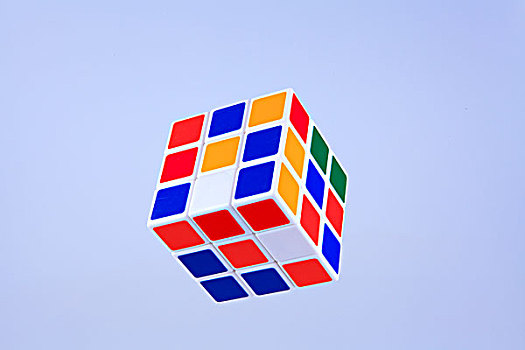cube: (147, 87, 352, 304)
